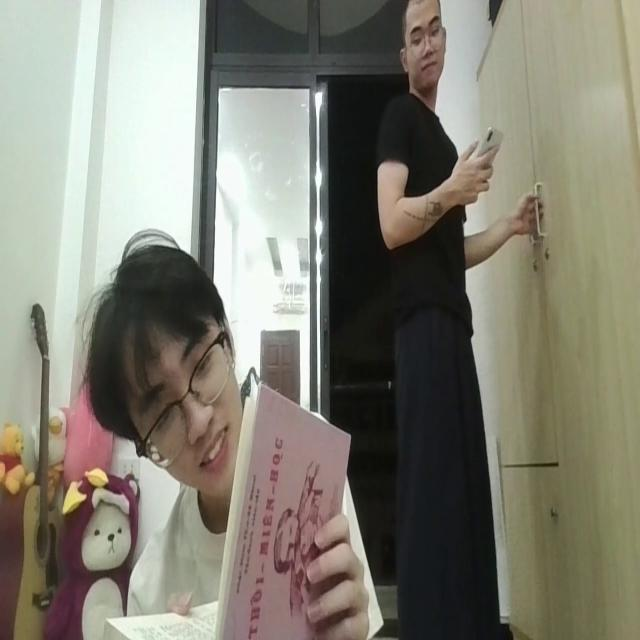book: (218, 379, 348, 636)
extra_person: (375, 0, 512, 640)
phone: (472, 115, 506, 175)
student: (79, 215, 385, 640)
